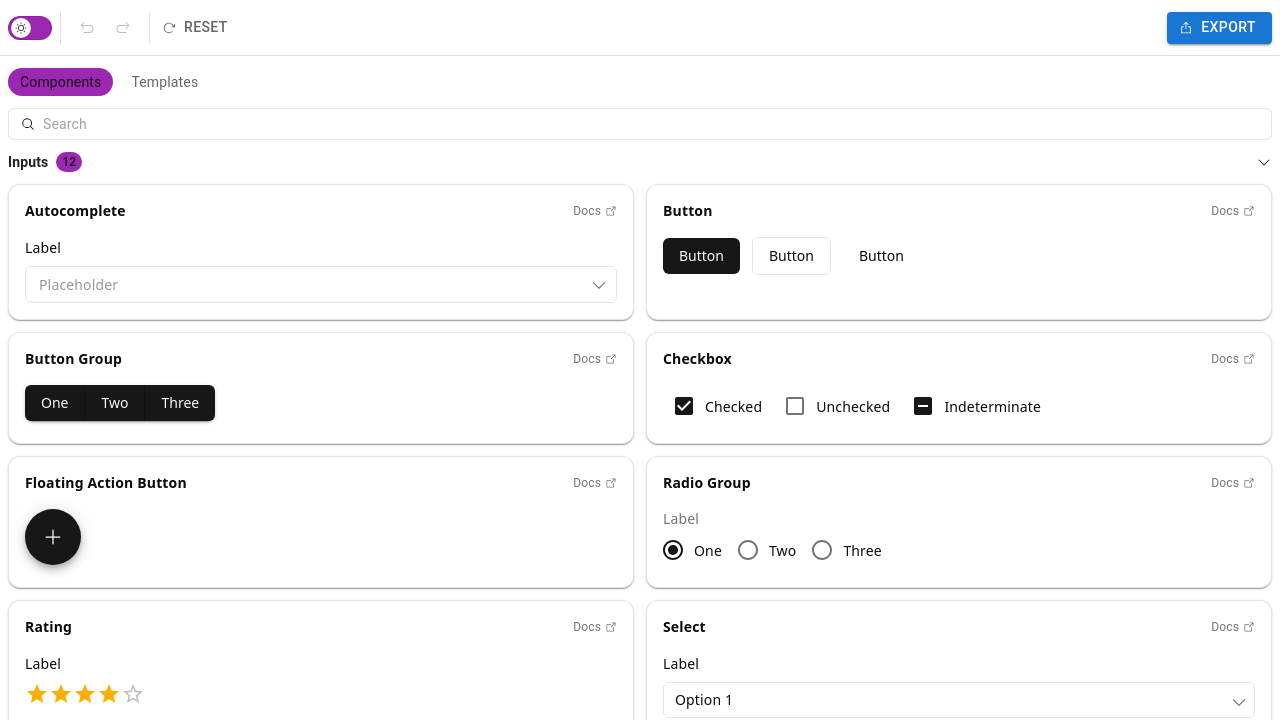
Scenario: PreviewArea (Phase 3) › shows the empty line when no component matches the search
Type "zzzz-not-a-component" into the field with placeholder "Search" at (651, 124), box [43, 109, 1259, 138]
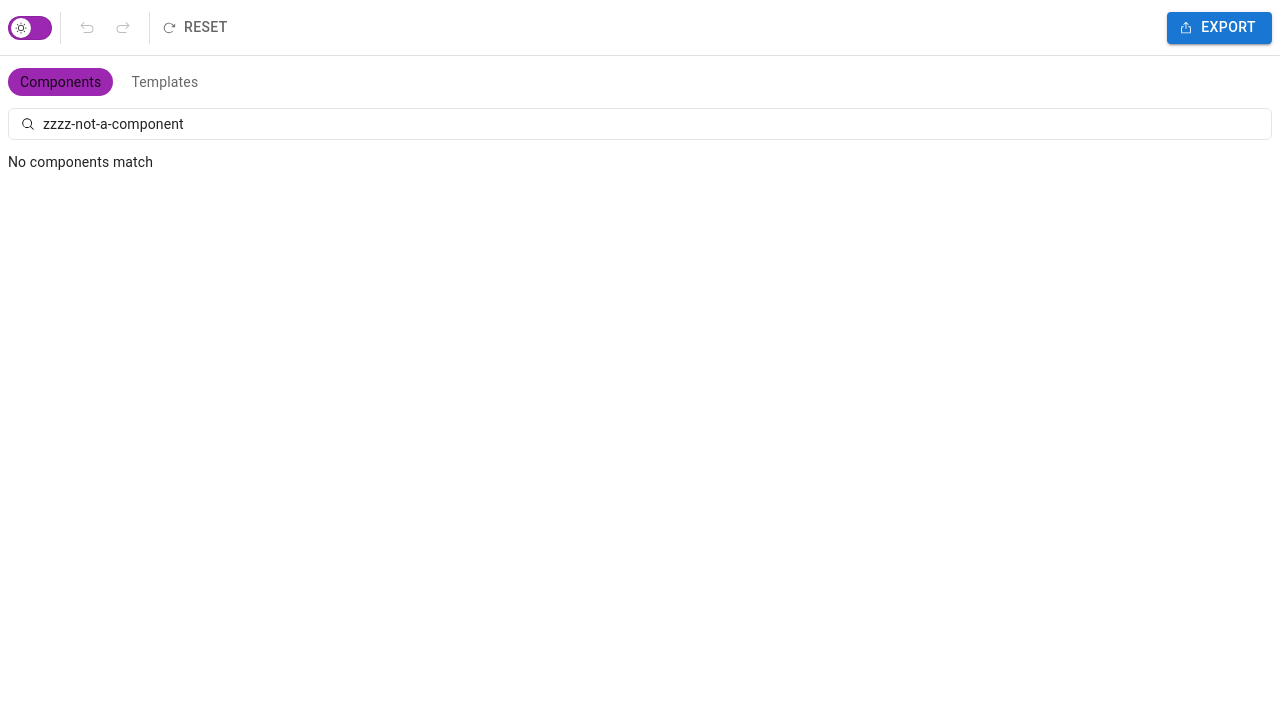
Result: the text "No components match" is shown at [8, 154, 153, 170]
